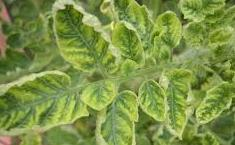Tomato leaf yellow virus: (44, 0, 119, 82), (0, 69, 73, 145), (95, 91, 146, 145), (155, 71, 192, 145), (198, 78, 234, 124), (108, 19, 143, 64), (151, 11, 183, 60), (185, 0, 228, 30), (138, 78, 167, 120), (200, 130, 219, 145)
